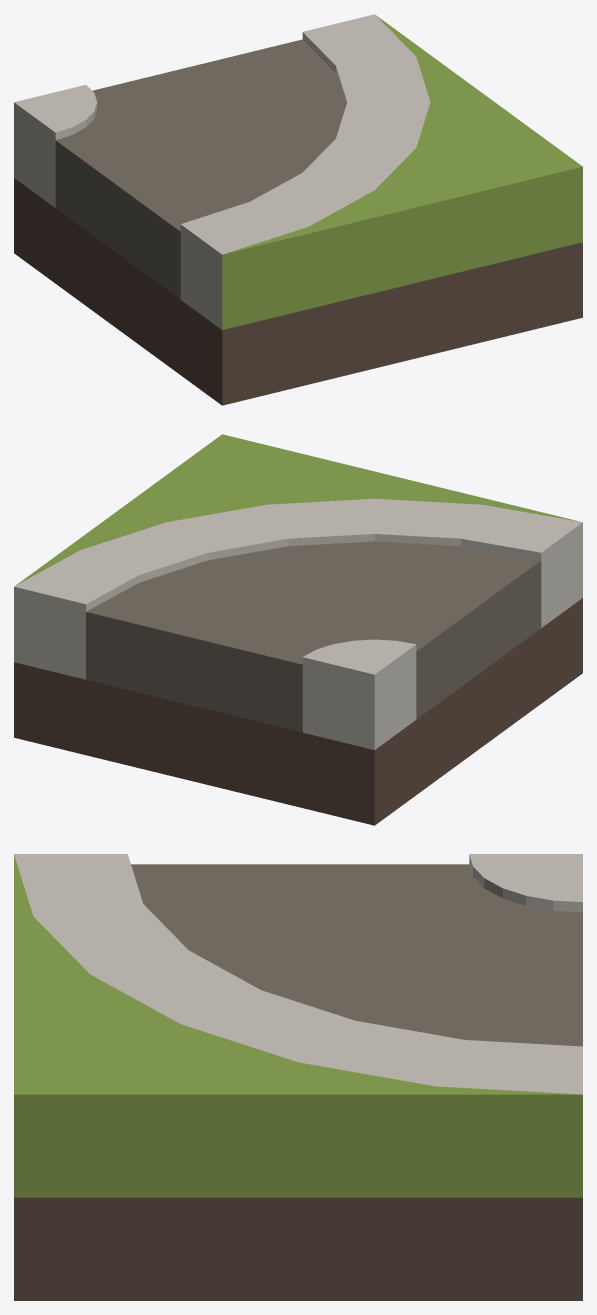
Rendered from road-tile-curve_small.fbx.
The picture shows the model from 3 angles, top to bottom: view 1: azimuth 30°, elevation 25°; view 2: azimuth 150°, elevation 25°; view 3: azimuth 270°, elevation 25°; orthographic projection. The views are drawn at different scales.
Visible parts, largest first — view 1: road-tile-curve_small; view 2: road-tile-curve_small; view 3: road-tile-curve_small.
Part boxes in pixels (x1=…): road-tile-curve_small: x1=14, y1=14, x2=582, y2=405; road-tile-curve_small: x1=14, y1=434, x2=582, y2=825; road-tile-curve_small: x1=14, y1=854, x2=582, y2=1300.
Bounding box in the file's own units: 1000 × 400 × 1000.
